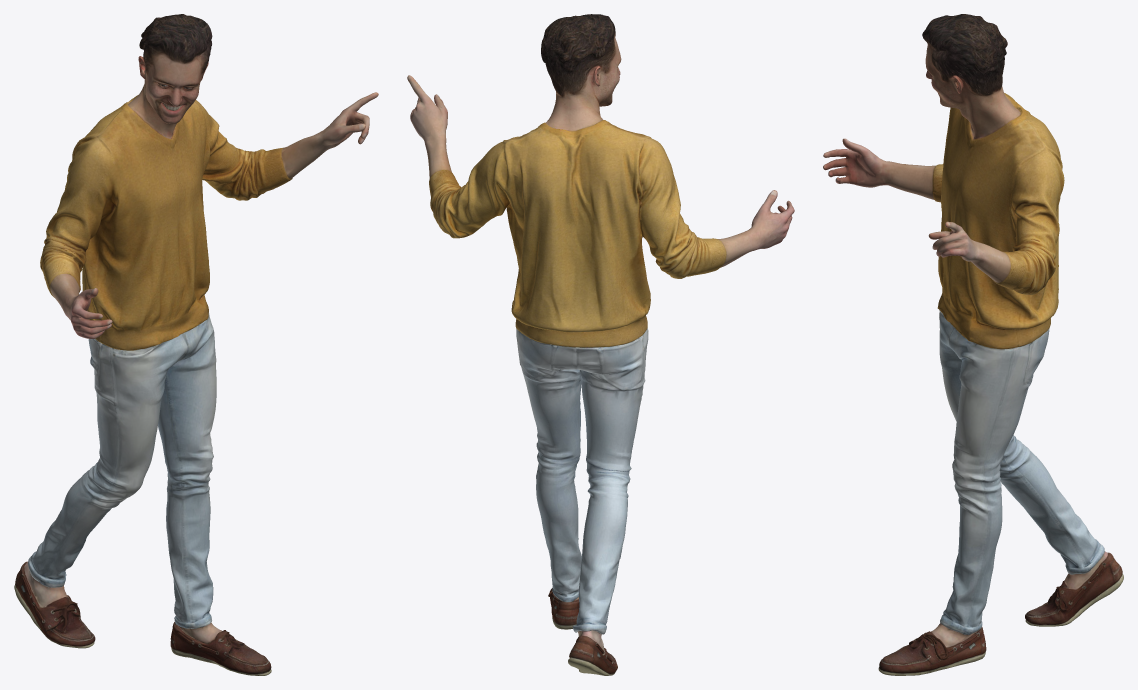
3 views of the same model, side by side, from view 1: azimuth 30°, elevation 25°; view 2: azimuth 150°, elevation 25°; view 3: azimuth 270°, elevation 25° (orthographic). The views are drawn at different scales.
Visible parts, largest first — view 1: GTP_CMan_Vince_Spg_11_Wk_Cpl_Pntg_Mgr_GTP_CMan_Vince_Spg_11_; view 2: GTP_CMan_Vince_Spg_11_Wk_Cpl_Pntg_Mgr_GTP_CMan_Vince_Spg_11_; view 3: GTP_CMan_Vince_Spg_11_Wk_Cpl_Pntg_Mgr_GTP_CMan_Vince_Spg_11_.
Part boxes in pixels (x1,y1,x2,y2): GTP_CMan_Vince_Spg_11_Wk_Cpl_Pntg_Mgr_GTP_CMan_Vince_Spg_11_: (14, 14, 378, 675); GTP_CMan_Vince_Spg_11_Wk_Cpl_Pntg_Mgr_GTP_CMan_Vince_Spg_11_: (407, 14, 794, 675); GTP_CMan_Vince_Spg_11_Wk_Cpl_Pntg_Mgr_GTP_CMan_Vince_Spg_11_: (823, 14, 1123, 675).
Bounding box in the file's own units: 107 × 185 × 79.75.
Materials: 1 (1 with a texture image).
